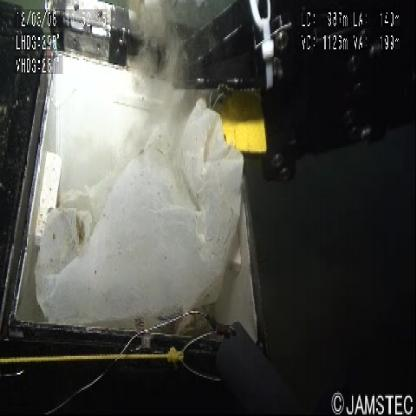Rov: (41, 1, 414, 202)
Rác: (29, 92, 249, 340)
